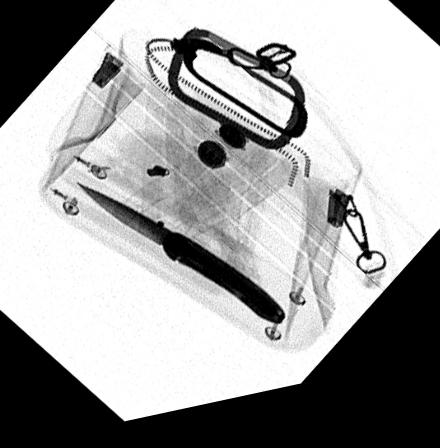Knife: (75, 183, 286, 336)
